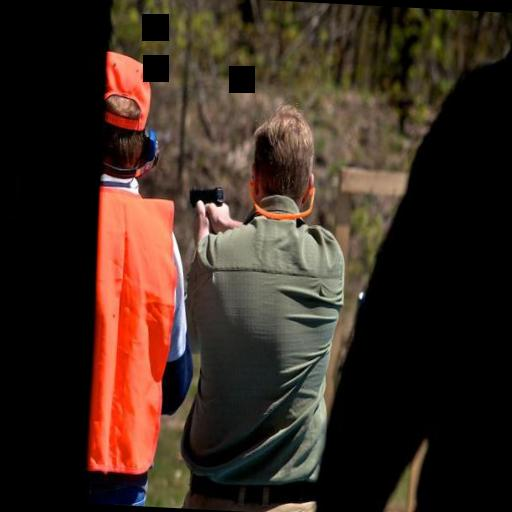Handgun: (185, 182, 225, 218)
